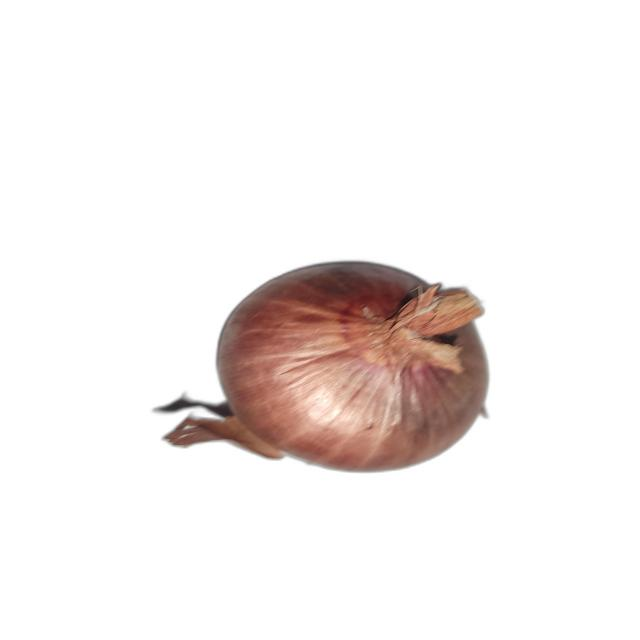onion: (162, 260, 493, 473)
